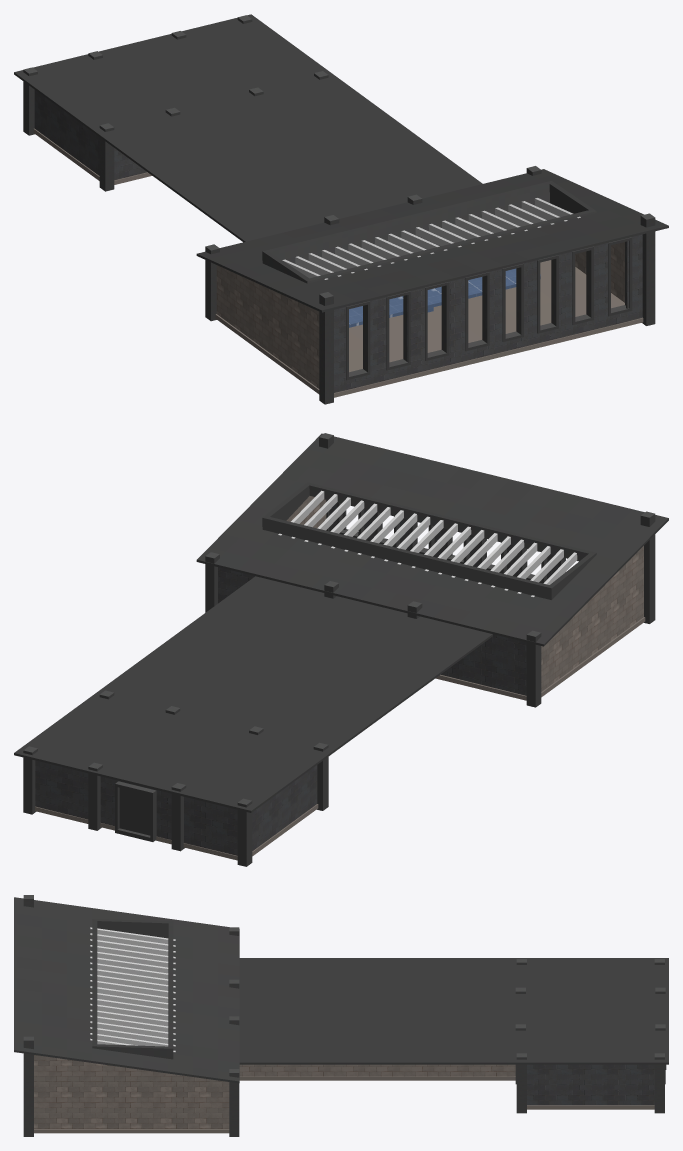
Rendered from office-temp-blockout.glb.
3 views of the same model, one above another, from view 1: azimuth 30°, elevation 25°; view 2: azimuth 150°, elevation 25°; view 3: azimuth 270°, elevation 25° (orthographic). The views are drawn at different scales.
Parts seen in each view (by area): view 1: Cube.033, Plane.012, Cube.034, ceiling.025, Cube.036, Plane.007, ceiling.024, Cube, Cube.037; view 2: Cube.033, Cube.034, Plane.012, Cube.036, ceiling.024, Cube, Plane.007, ceiling.047, ceiling.025; view 3: Cube.033, Cube.034, Plane.012, Cube, ceiling.024, Cube.036, Plane.007.
Part boxes in pixels (x1=…): Cube.033: x1=14, y1=14, x2=482, y2=242; Plane.012: x1=34, y1=90, x2=642, y2=392; Cube.034: x1=196, y1=169, x2=668, y2=312; ceiling.025: x1=346, y1=237, x2=632, y2=380; Cube.036: x1=262, y1=181, x2=596, y2=283; Plane.007: x1=33, y1=128, x2=643, y2=397; ceiling.024: x1=23, y1=15, x2=655, y2=404; Cube: x1=282, y1=198, x2=580, y2=279; Cube.037: x1=349, y1=268, x2=540, y2=327; Cube.033: x1=14, y1=576, x2=492, y2=812; Cube.034: x1=196, y1=433, x2=668, y2=646; Plane.012: x1=35, y1=496, x2=643, y2=855; Cube.036: x1=262, y1=482, x2=596, y2=599; ceiling.024: x1=23, y1=433, x2=655, y2=866; Cube: x1=278, y1=490, x2=577, y2=597; Plane.007: x1=35, y1=617, x2=645, y2=860; ceiling.047: x1=115, y1=781, x2=156, y2=841; ceiling.025: x1=336, y1=502, x2=565, y2=583; Cube.033: x1=239, y1=958, x2=668, y2=1064; Cube.034: x1=14, y1=897, x2=239, y2=1083; Plane.012: x1=34, y1=1055, x2=654, y2=1128; Cube: x1=90, y1=927, x2=175, y2=1052; ceiling.024: x1=23, y1=895, x2=665, y2=1136; Cube.036: x1=92, y1=919, x2=173, y2=1059; Plane.007: x1=34, y1=1076, x2=654, y2=1133.
Size of the model in its own units: 21 by 6.15 by 38.01.
Materials: 6 (6 with a texture image).
